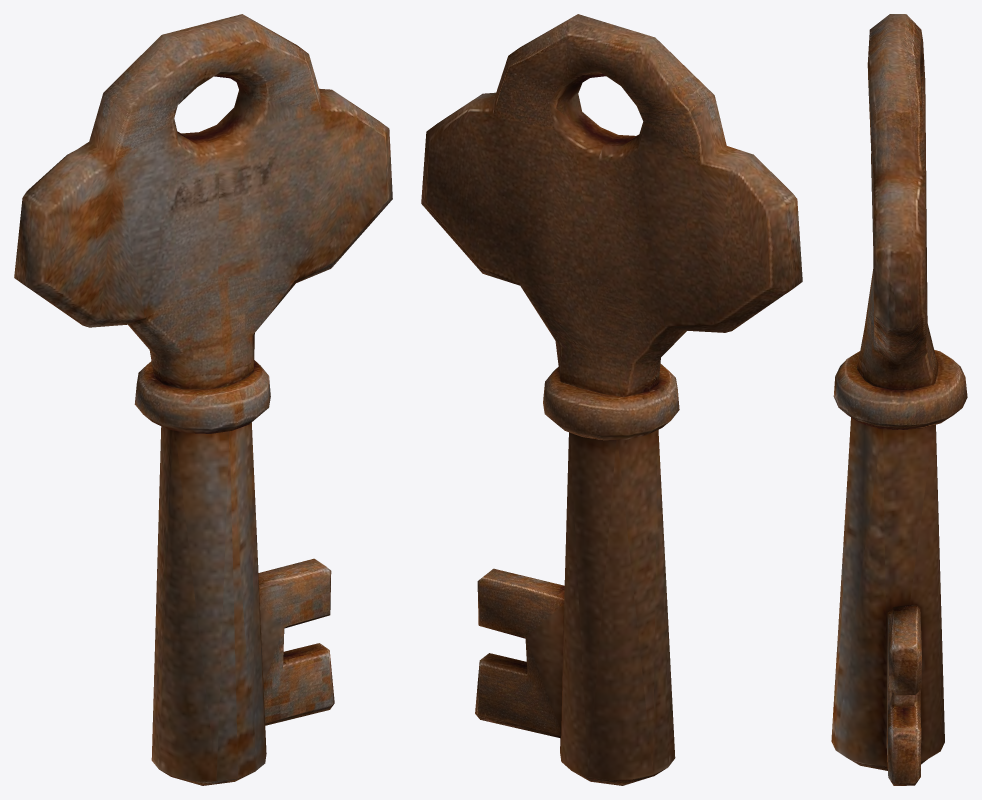
The model's file is Alley2Key.fbx.
The picture shows the model from 3 angles, left to right: view 1: azimuth 30°, elevation 25°; view 2: azimuth 150°, elevation 25°; view 3: azimuth 270°, elevation 25°; orthographic projection. The views are drawn at different scales.
Visible parts, largest first — view 1: tripo_node_438af9f7; view 2: tripo_node_438af9f7; view 3: tripo_node_438af9f7.
Boxes of the visible parts, <box> form: tripo_node_438af9f7: <box>14,14,392,785</box>; tripo_node_438af9f7: <box>421,14,802,785</box>; tripo_node_438af9f7: <box>831,14,967,785</box>.
Bounding box in the file's own units: 58.84 × 112 × 19.18.
Materials: 1 (1 with a texture image).
